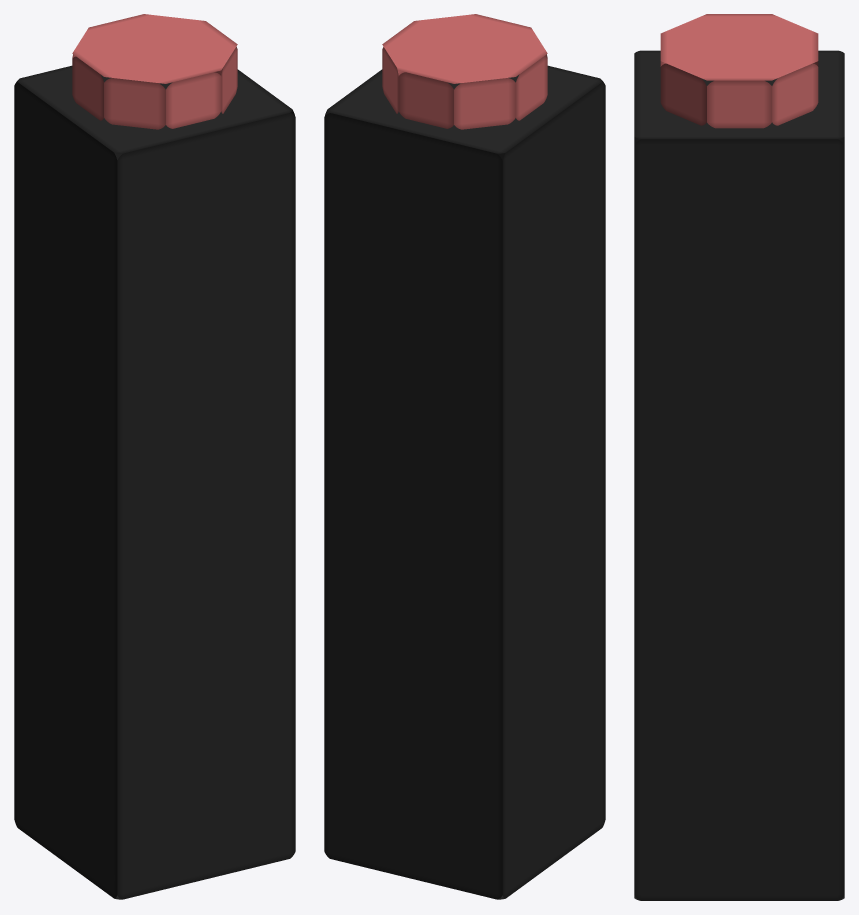
The picture shows the model from 3 angles, left to right: view 1: azimuth 30°, elevation 25°; view 2: azimuth 150°, elevation 25°; view 3: azimuth 270°, elevation 25°; orthographic projection. The views are drawn at different scales.
Visible parts, largest first — view 1: cuboid, confirm; view 2: cuboid, confirm; view 3: cuboid, confirm.
Boxes of the visible parts, box(x1,y1,x2,y2) form: cuboid: box(14, 65, 295, 899); confirm: box(72, 14, 237, 129); cuboid: box(324, 65, 605, 899); confirm: box(382, 14, 547, 129); cuboid: box(634, 50, 844, 900); confirm: box(660, 14, 818, 128).
Size of the model in its own units: 0.25 by 1.06 by 0.25.
Materials: 1 (1 with a texture image).
